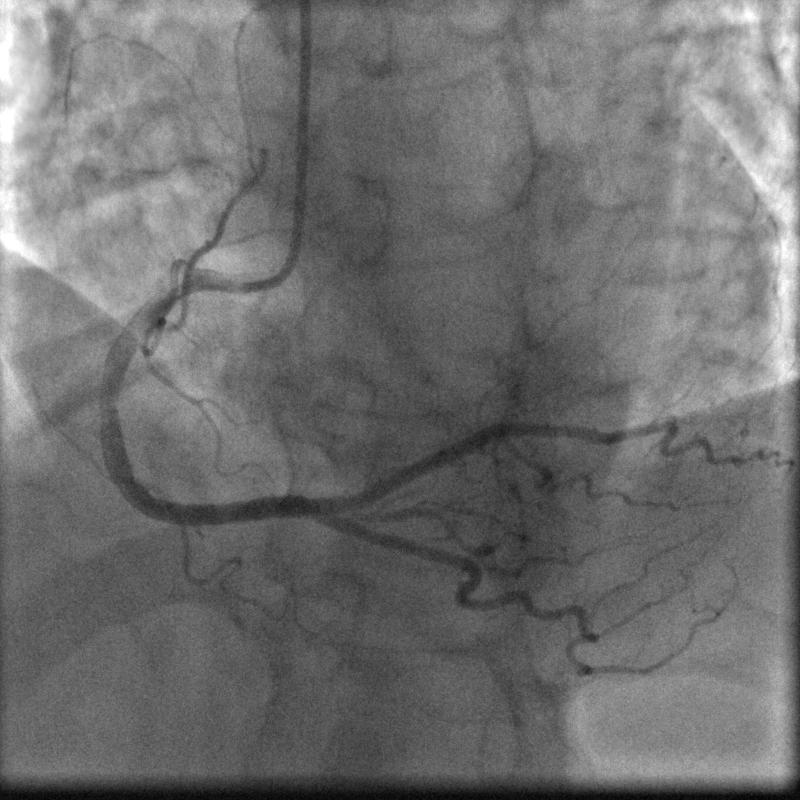Stenosis: (95, 378, 126, 432)
